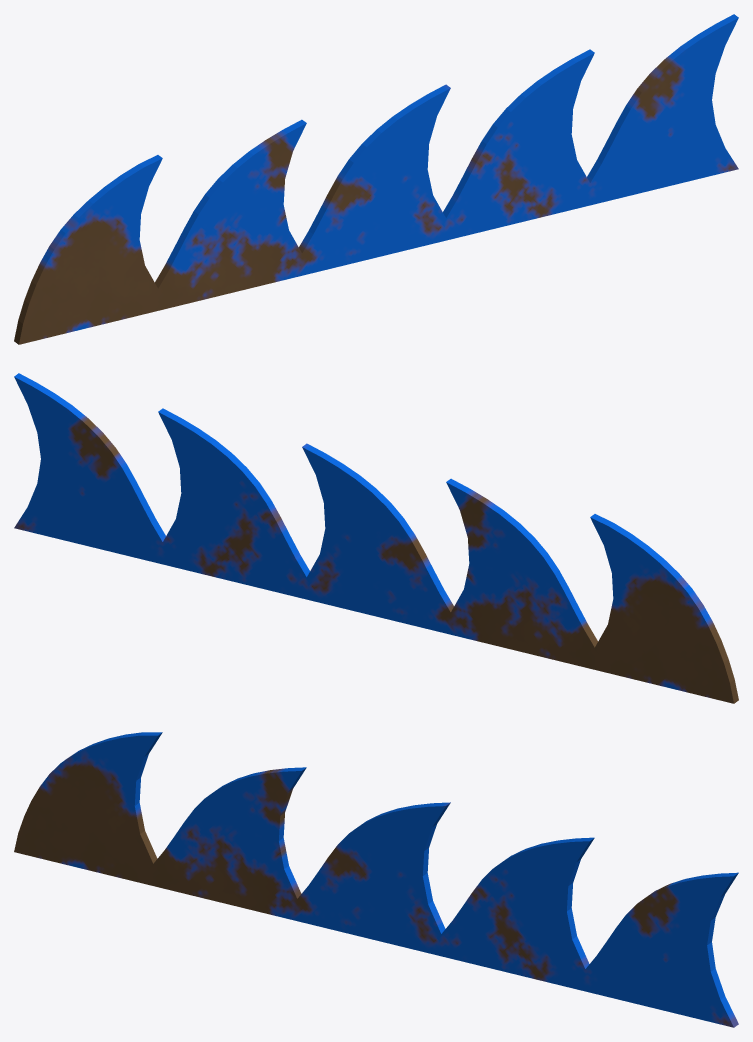
Rendered from ola 5.fbx.
The picture shows the model from 3 angles, top to bottom: view 1: azimuth 30°, elevation 25°; view 2: azimuth 150°, elevation 25°; view 3: azimuth 330°, elevation 25°; orthographic projection.
Parts seen in each view (by area): view 1: ola 5; view 2: ola 5; view 3: ola 5.
Boxes of the visible parts, x1,y1,x2,y2 form: ola 5: (14,14,738,344); ola 5: (14,373,738,703); ola 5: (14,732,738,1027).
Size of the model in its own units: 597 by 120 by 7.04.
Materials: 1 (1 with a texture image).
